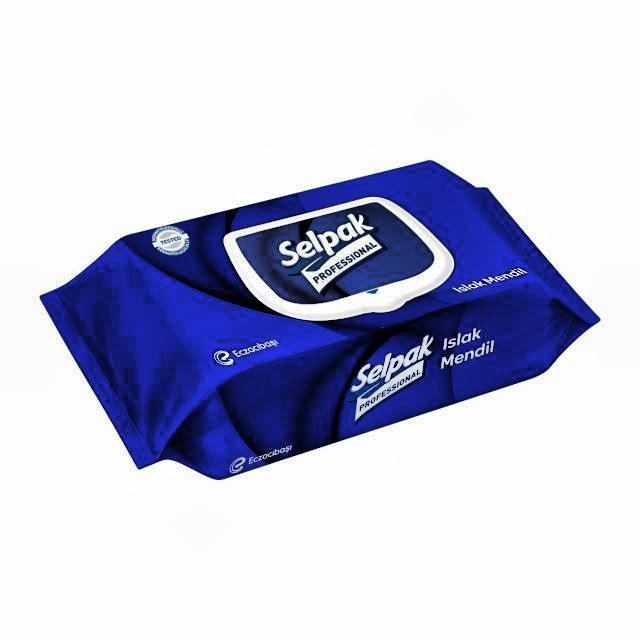plastic: (40, 160, 599, 481)
